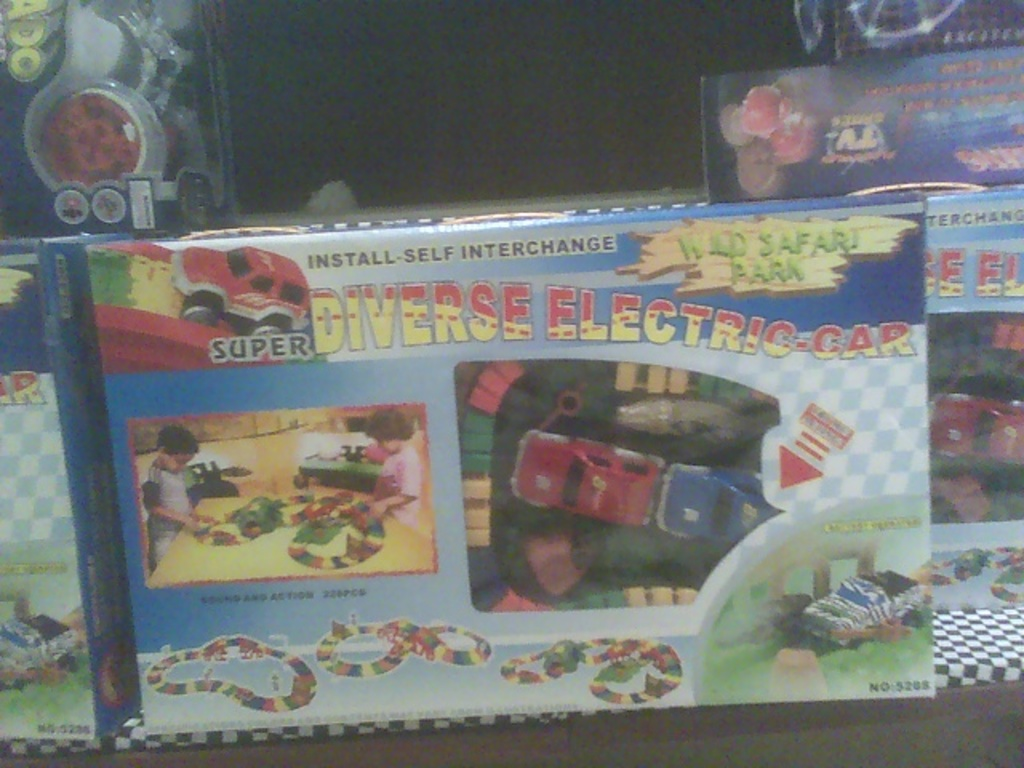person: (140, 423, 220, 571)
